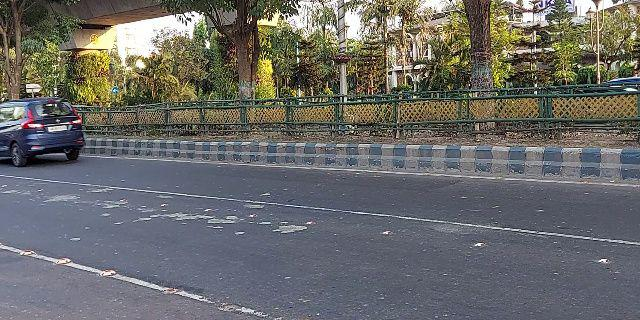Car: (1, 95, 87, 168)
